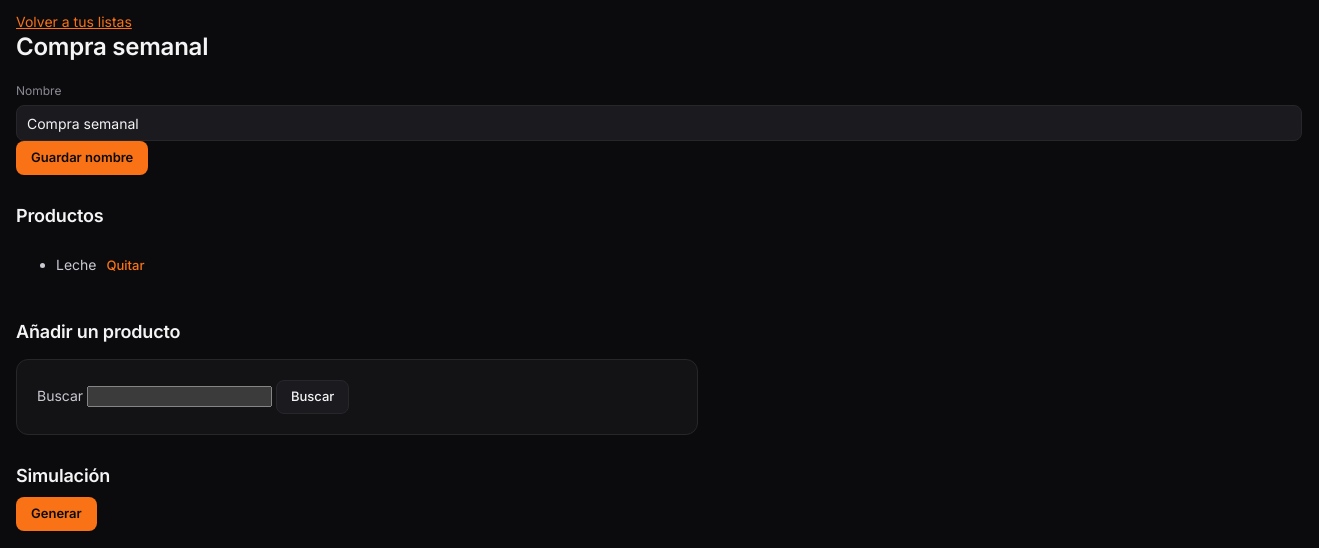
Test: ShoppingListDetailPage › quitar un producto lo elimina de la lista
The width and height of the screenshot is (1319, 548).
Expected: the list item "Leche" is shown, [56,256,96,273]
Click the button "Quitar" at [126, 266], box [100,249,150,283]
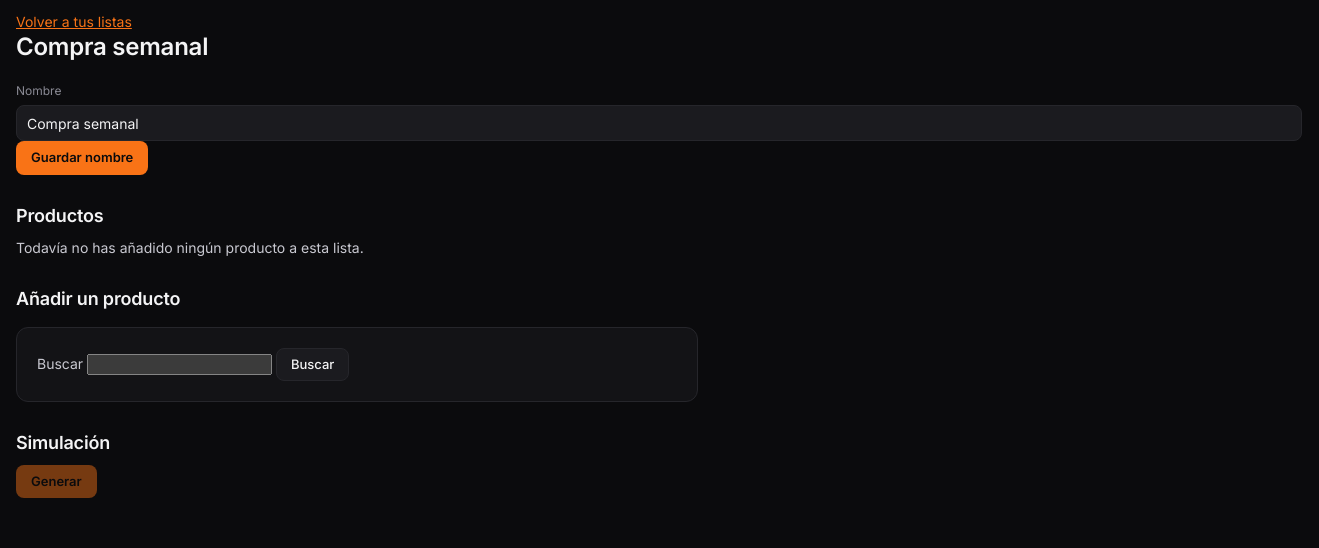
Now the text "Todavía no has añadido ningún producto a esta lista." is shown, box [16,239,364,256]
